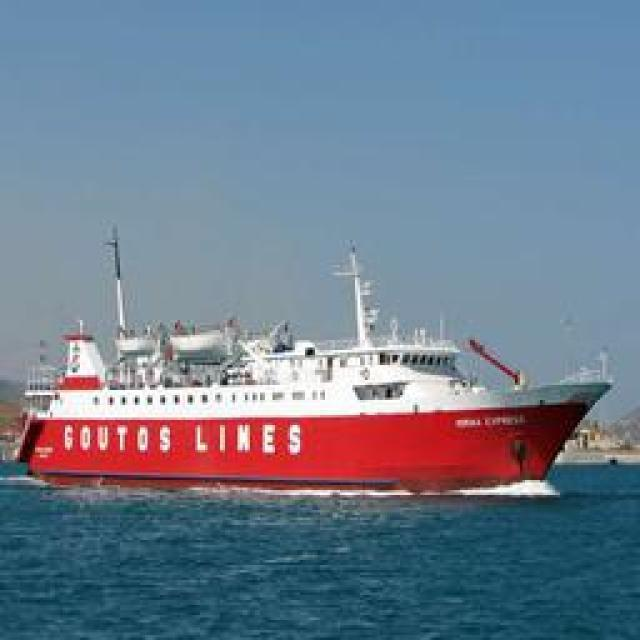ship2: (14, 227, 614, 499)
